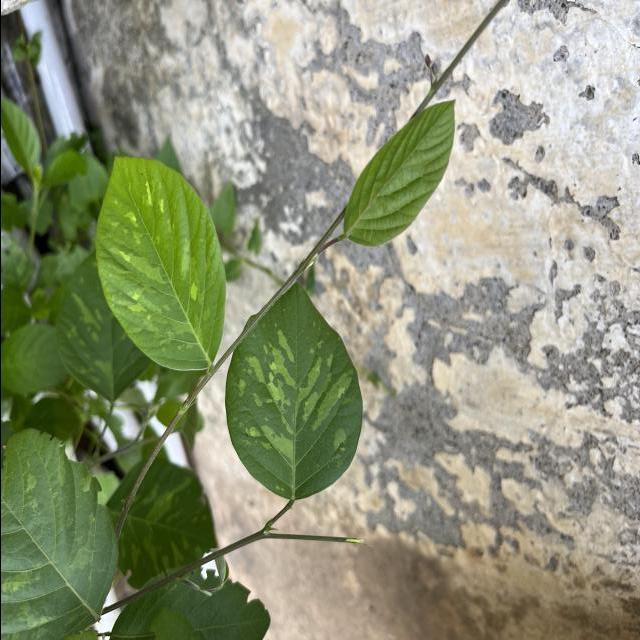Desmodium gangeticum: (221, 280, 365, 503), (92, 153, 228, 375)
